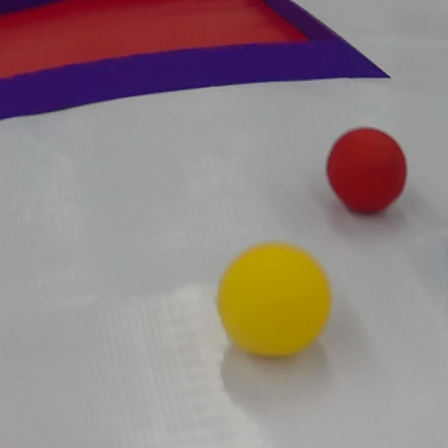red: (321, 126, 413, 218)
red_aim: (0, 0, 398, 123)
yellow: (207, 241, 334, 358)
